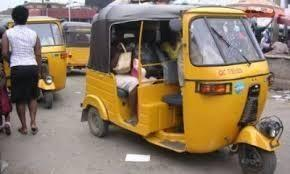keke: (84, 1, 283, 172)
